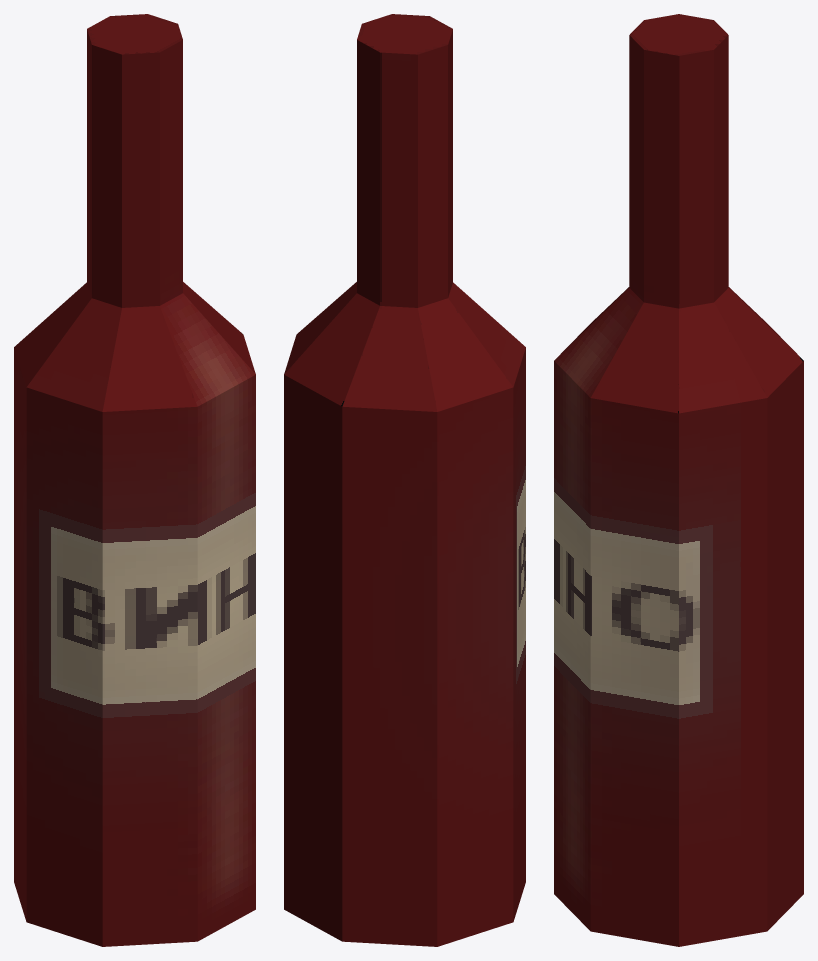
The model's file is Vodka_final.glb.
3 renders of one model, left to right at view 1: azimuth 30°, elevation 25°; view 2: azimuth 150°, elevation 25°; view 3: azimuth 270°, elevation 25°, orthographic.
Visible parts, largest first — view 1: Cylinder; view 2: Cylinder; view 3: Cylinder.
Boxes of the visible parts, x1,y1,x2,y2 form: Cylinder: [14, 14, 255, 946]; Cylinder: [284, 14, 525, 946]; Cylinder: [554, 14, 803, 946].
Size of the model in its own units: 5.03 by 19.1 by 5.03.
2 materials, 2 textured.
